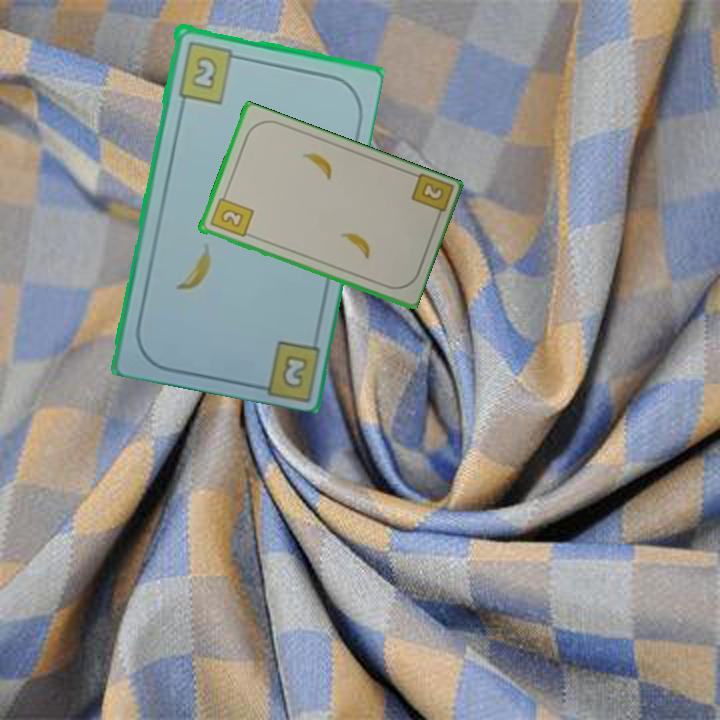2b: (174, 37, 244, 106), (206, 189, 256, 240), (407, 171, 454, 225), (278, 350, 310, 391)
